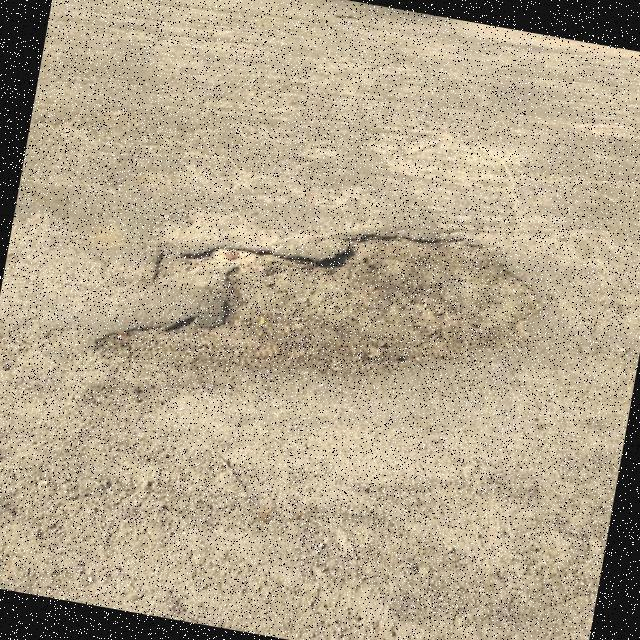Pothole: (73, 232, 541, 377)
